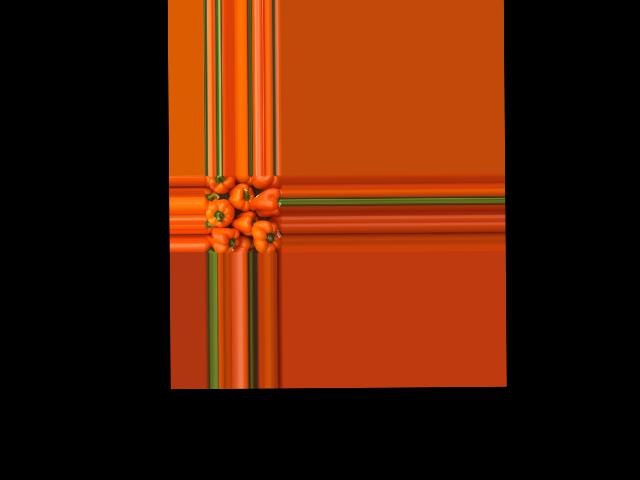bell_pepper: (251, 175, 282, 188)
